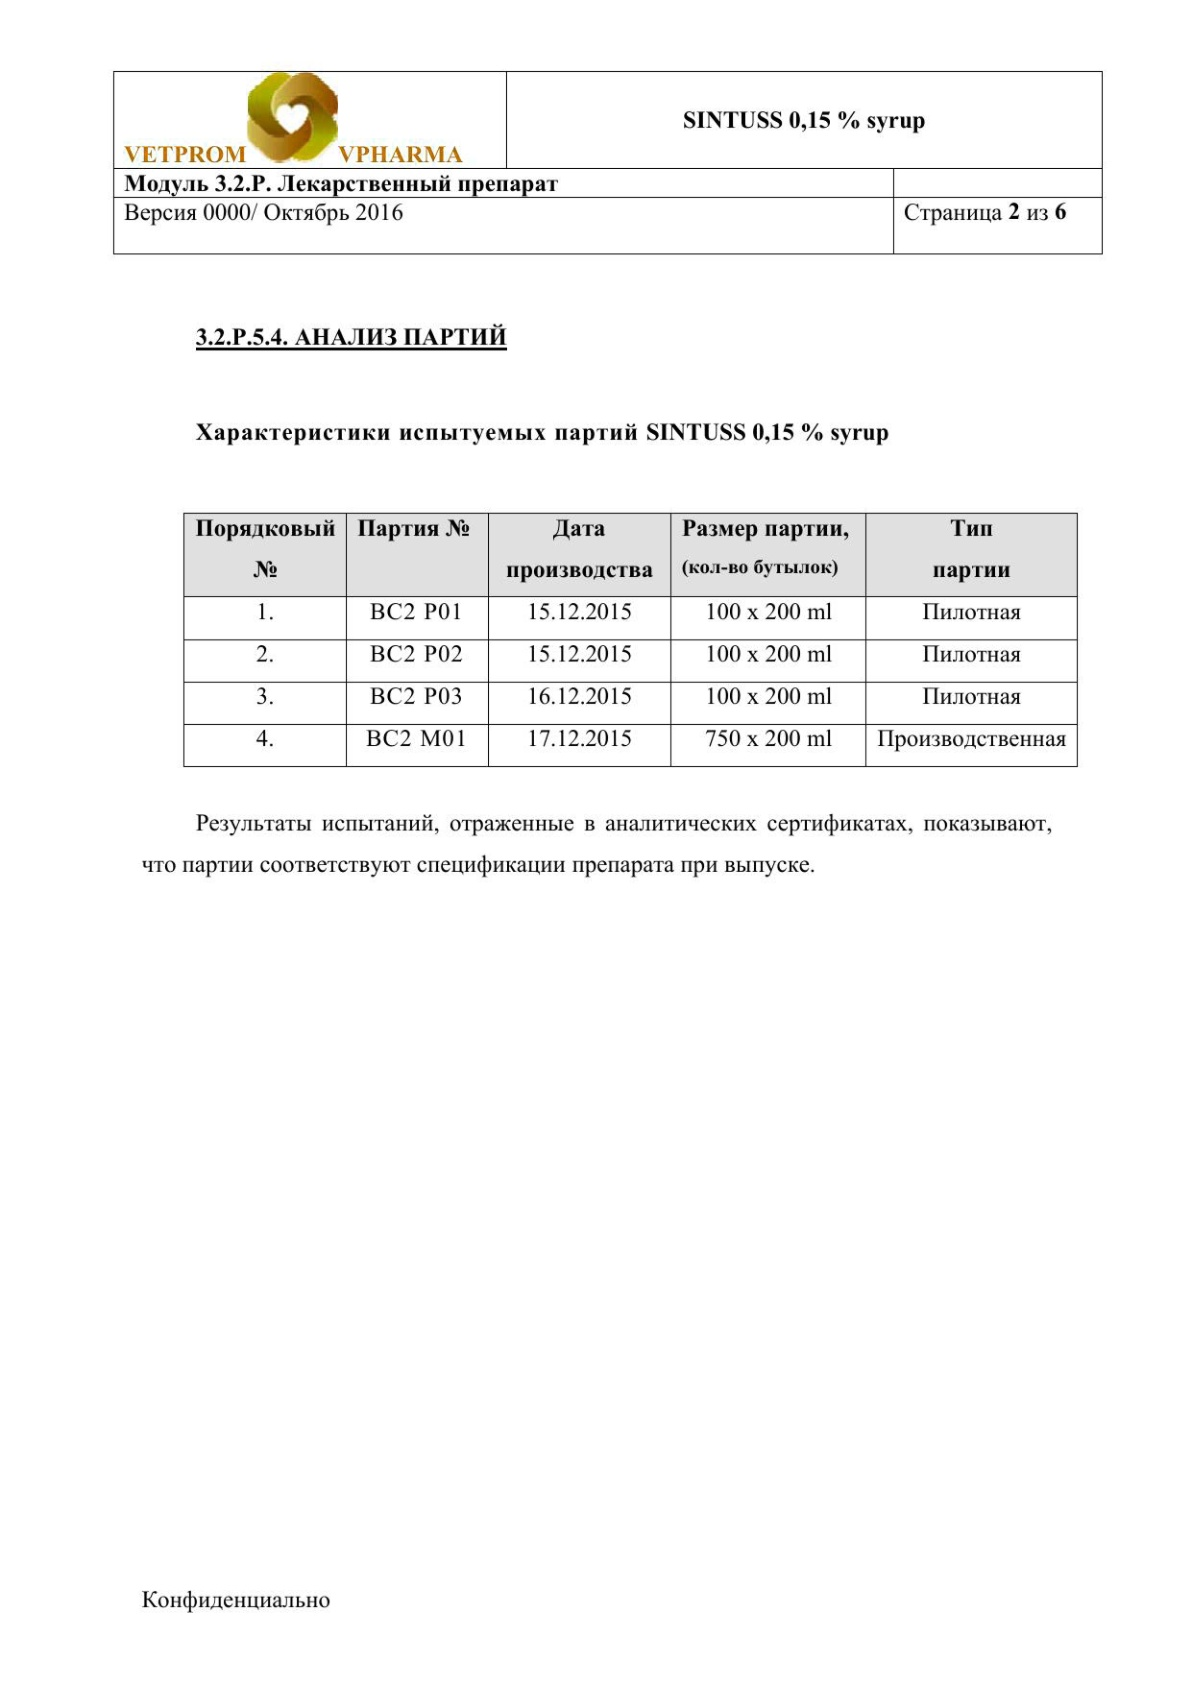full_lined: (181, 511, 1078, 766)
merged_cells: (111, 68, 1103, 255)
